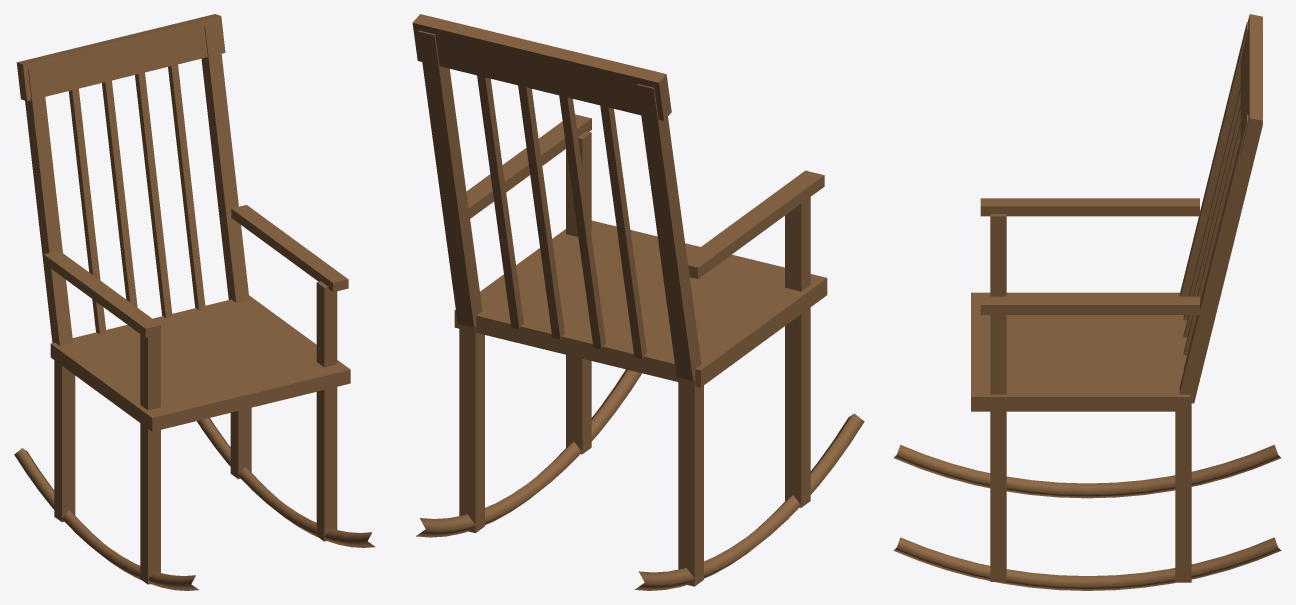
The model's file is rocking-chair.glb.
3 views of the same model, side by side, from view 1: azimuth 30°, elevation 25°; view 2: azimuth 150°, elevation 25°; view 3: azimuth 270°, elevation 25° (orthographic). The views are drawn at different scales.
Parts seen in each view (by area): view 1: rocking-chair; view 2: rocking-chair; view 3: rocking-chair.
Part boxes in pixels (box(x1,y1,x2,y2)): rocking-chair: box(14, 14, 375, 590); rocking-chair: box(412, 14, 864, 590); rocking-chair: box(893, 14, 1281, 590).
Bounding box in the file's own units: 1.84 × 3.85 × 2.84.
